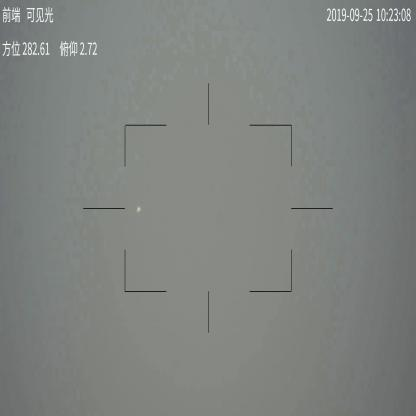uav: (136, 206, 141, 212)
